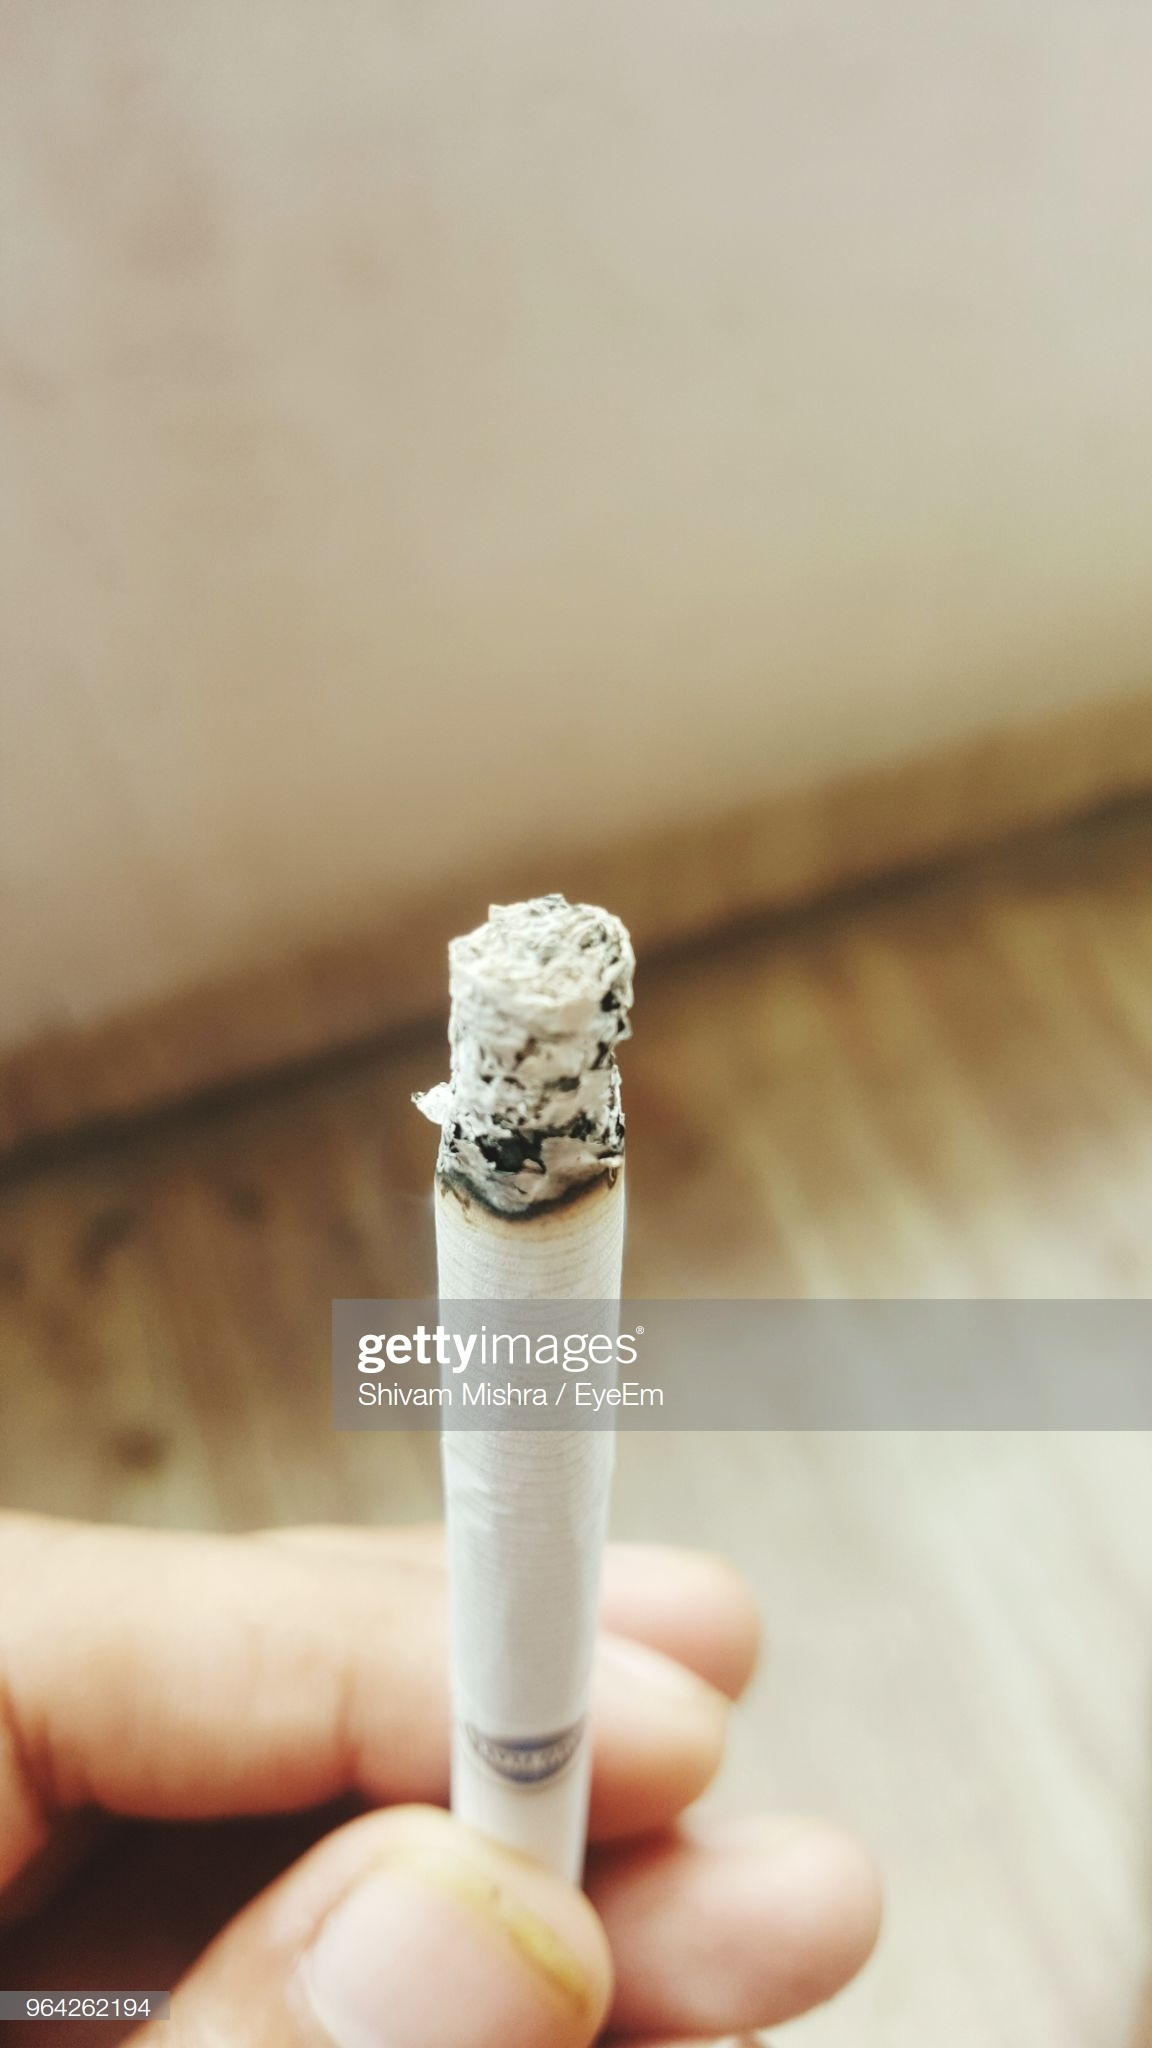sigaretta: (450, 895, 643, 1851)
